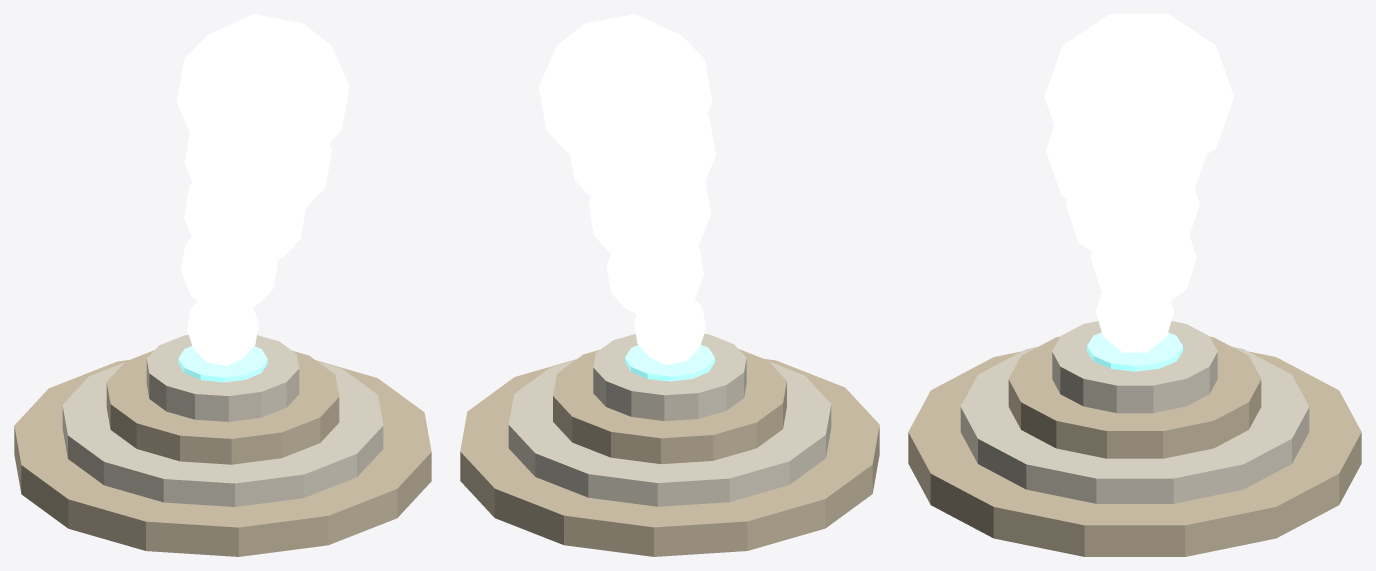
File: geyser.glb
3 renders of one model, left to right at view 1: azimuth 30°, elevation 25°; view 2: azimuth 150°, elevation 25°; view 3: azimuth 270°, elevation 25°, orthographic. The views are drawn at different scales.
Parts seen in each view (by area): view 1: Cylinder, Icosphere.004, Cylinder.001, Cylinder.002, Icosphere.003, Cylinder.003, Icosphere.002, Icosphere.001, Icosphere, Cylinder.004; view 2: Cylinder, Icosphere.004, Cylinder.001, Cylinder.002, Cylinder.003, Icosphere.002, Icosphere.003, Icosphere.001, Icosphere, Cylinder.004; view 3: Cylinder, Icosphere.004, Cylinder.001, Cylinder.002, Cylinder.003, Icosphere.003, Icosphere.002, Icosphere.001, Icosphere, Cylinder.004.
Part boxes in pixels (x1,y1,x2,y2): Cylinder: (14,360,431,556); Icosphere.004: (176,14,349,156); Cylinder.001: (62,361,383,506); Cylinder.002: (106,350,339,464); Icosphere.003: (184,133,331,219); Cylinder.003: (146,335,299,421); Icosphere.002: (184,182,305,269); Icosphere.001: (181,237,277,310); Icosphere: (187,301,258,365); Cylinder.004: (178,345,267,382); Cylinder: (460,359,879,556); Icosphere.004: (538,14,712,167); Cylinder.001: (508,360,831,506); Cylinder.002: (553,349,786,464); Cylinder.003: (593,333,746,420); Icosphere.002: (588,181,711,259); Icosphere.003: (570,115,715,207); Icosphere.001: (606,246,703,320); Icosphere: (634,299,705,364); Cylinder.004: (625,345,714,381); Cylinder: (908,351,1361,556); Icosphere.004: (1044,14,1234,175); Cylinder.001: (960,346,1309,503); Cylinder.002: (1008,336,1261,458); Cylinder.003: (1052,321,1217,413); Icosphere.003: (1046,126,1206,220); Icosphere.002: (1065,189,1199,266); Icosphere.001: (1090,235,1196,309); Icosphere: (1096,291,1173,352); Cylinder.004: (1087,332,1182,371).
Size of the model in its own units: 5.07 by 5.9 by 5.2.
